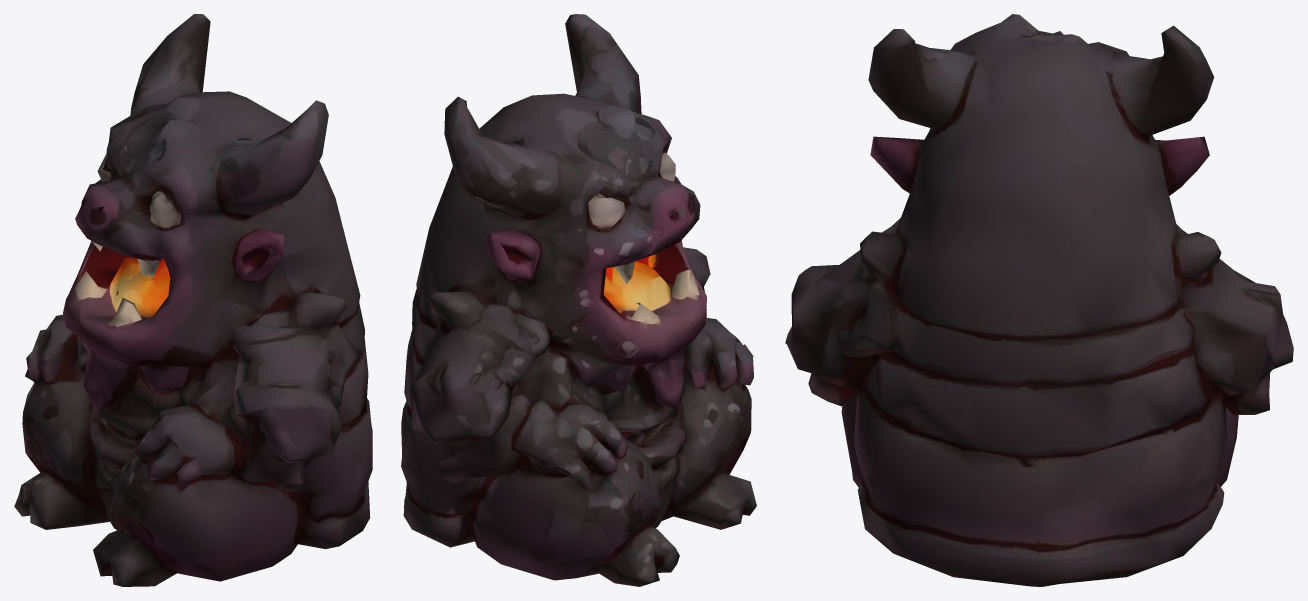
Rendered from deep-idol.glb.
3 views of the same model, side by side, from view 1: azimuth 30°, elevation 25°; view 2: azimuth 150°, elevation 25°; view 3: azimuth 270°, elevation 25° (orthographic). The views are drawn at different scales.
Visible parts, largest first — view 1: tripo_node_fc32f4b6-094e-4485-af8b-98f5342fdb4a; view 2: tripo_node_fc32f4b6-094e-4485-af8b-98f5342fdb4a; view 3: tripo_node_fc32f4b6-094e-4485-af8b-98f5342fdb4a.
Part boxes in pixels (x1=…): tripo_node_fc32f4b6-094e-4485-af8b-98f5342fdb4a: x1=14, y1=14, x2=372, y2=586; tripo_node_fc32f4b6-094e-4485-af8b-98f5342fdb4a: x1=401, y1=14, x2=756, y2=586; tripo_node_fc32f4b6-094e-4485-af8b-98f5342fdb4a: x1=785, y1=14, x2=1293, y2=586.
Size of the model in its own units: 0.673 by 1 by 0.8943.
1 material, 1 textured.
